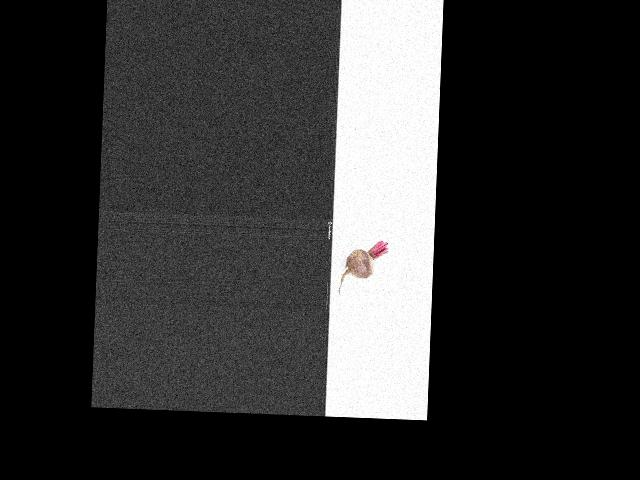beet: (338, 239, 388, 297)
